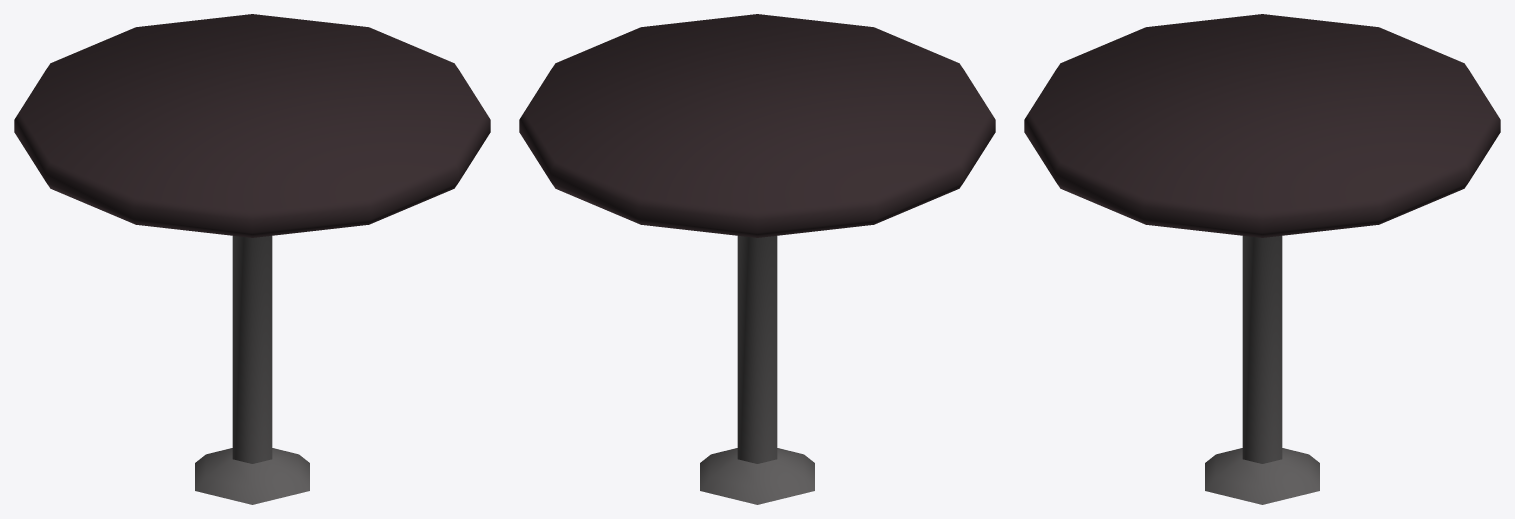
The model's file is outside_table_round.fbx.
The picture shows the model from 3 angles, left to right: view 1: azimuth 30°, elevation 25°; view 2: azimuth 150°, elevation 25°; view 3: azimuth 270°, elevation 25°; orthographic projection.
Visible parts, largest first — view 1: outside_table_round; view 2: outside_table_round; view 3: outside_table_round.
Boxes of the visible parts, x1,y1,x2,y2 form: outside_table_round: (14,14,490,504); outside_table_round: (519,14,995,504); outside_table_round: (1024,14,1500,504).
Size of the model in its own units: 110 by 110 by 93.12.
